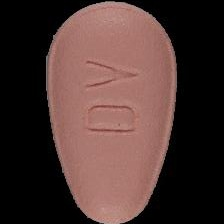67544-403: (0, 0, 224, 224)
